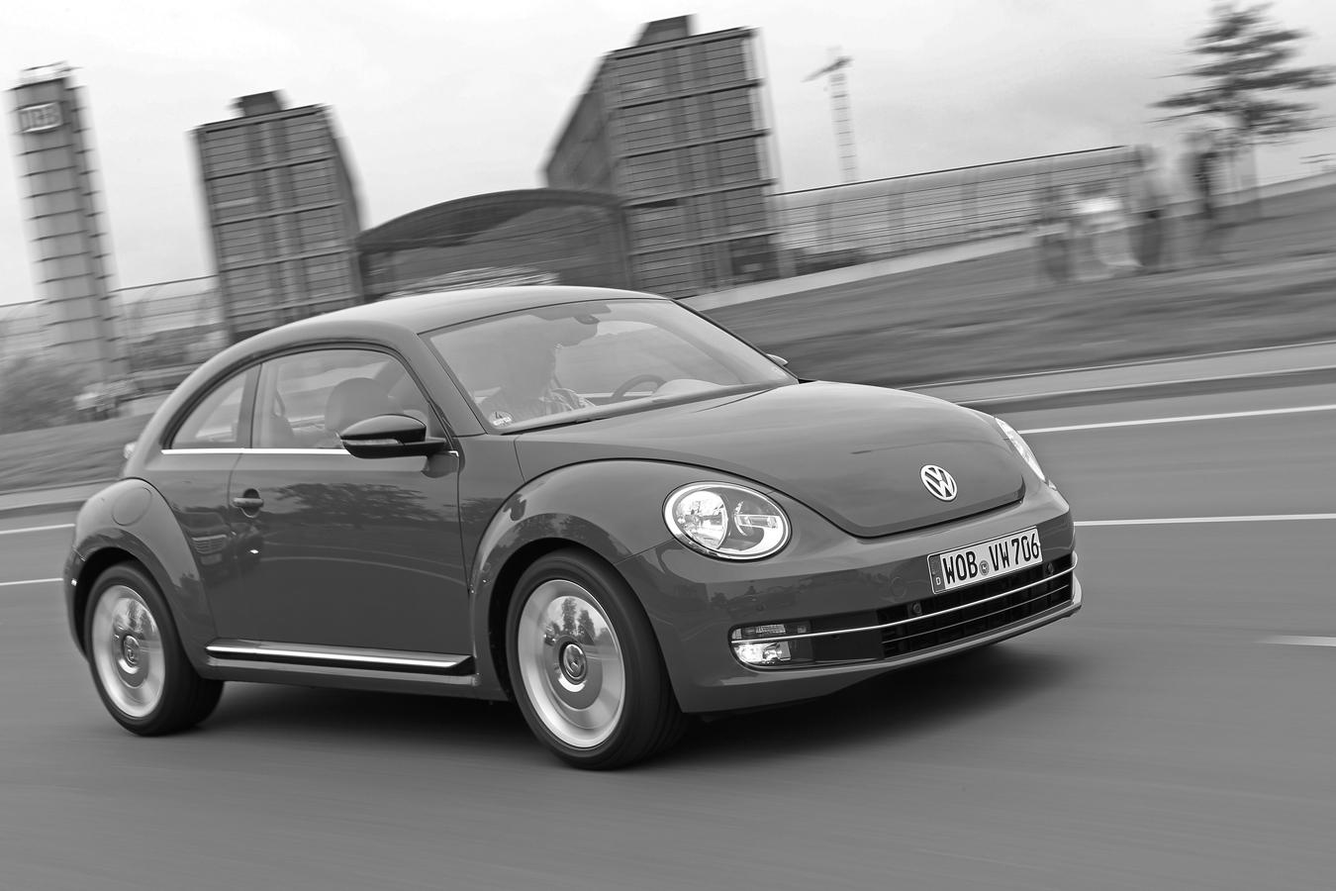car: (68, 281, 1094, 778)
